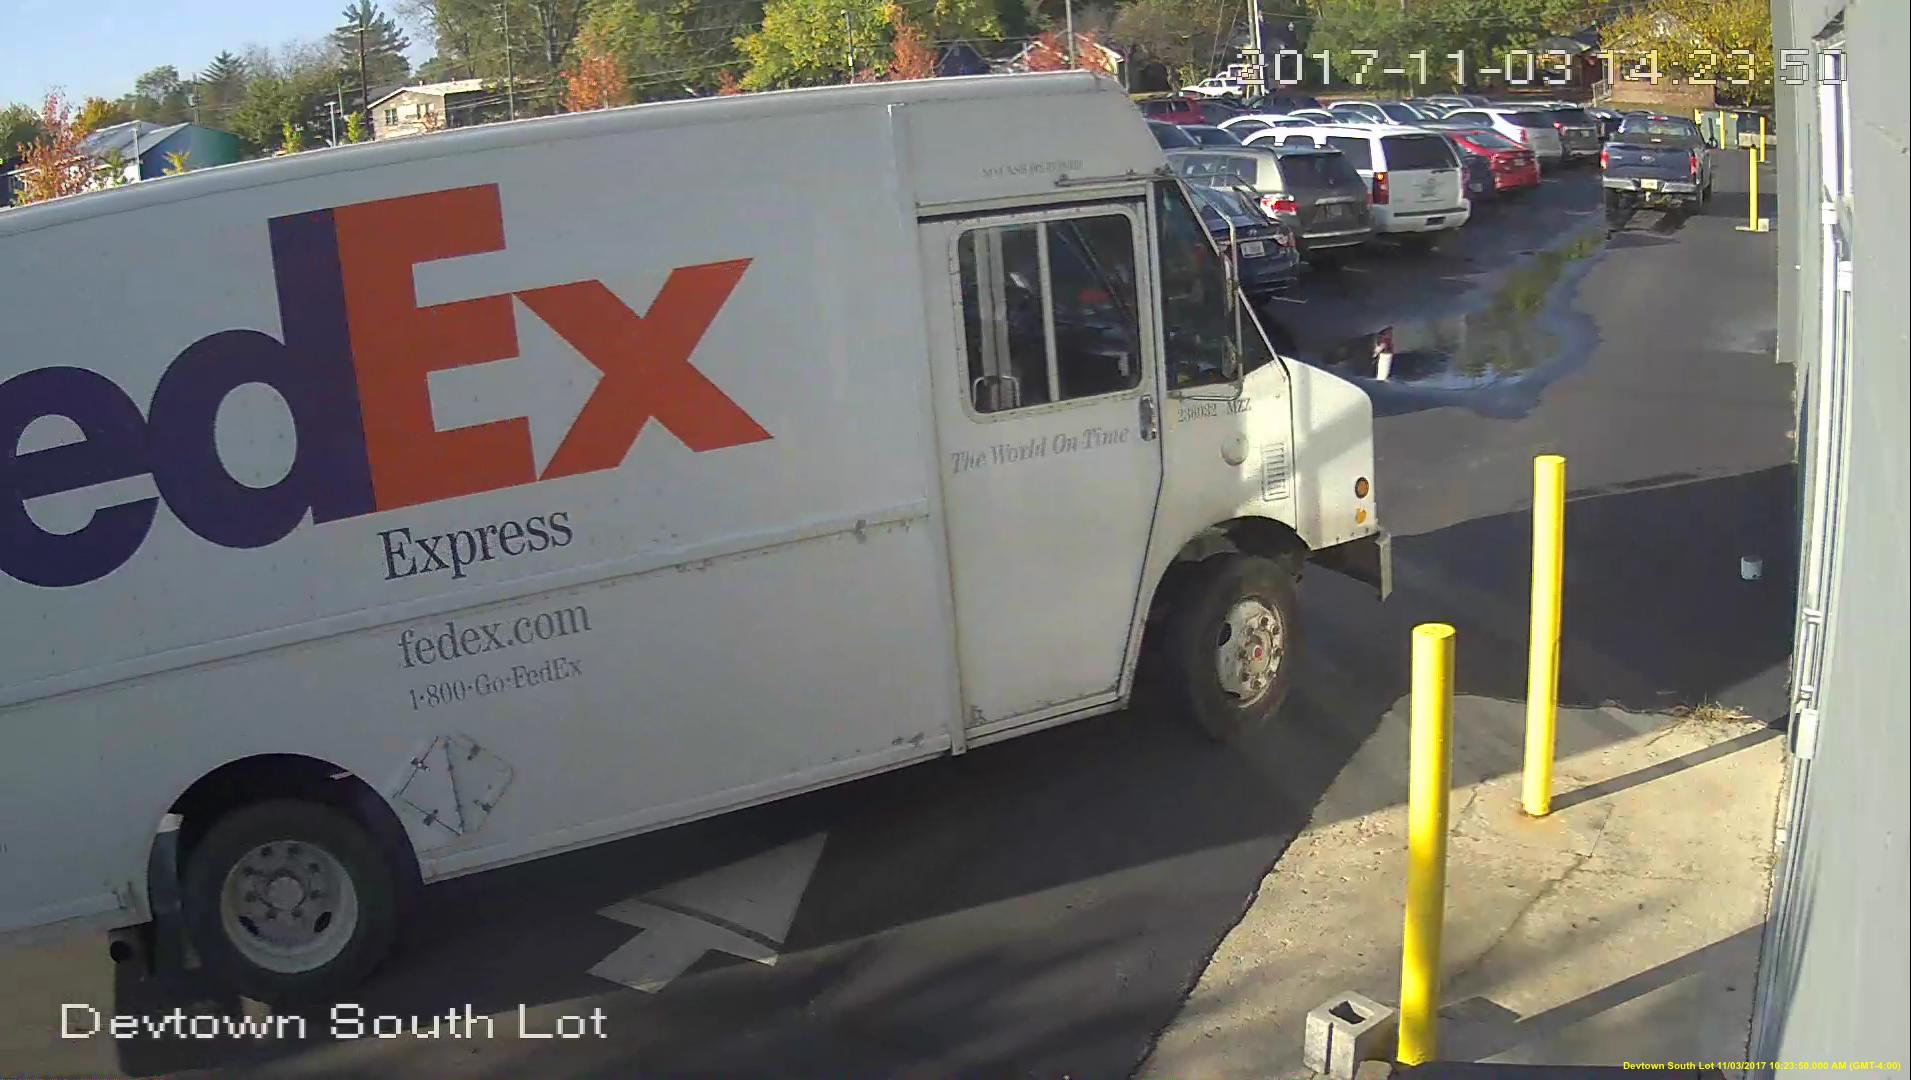fedex_truck: (7, 75, 1390, 961)
